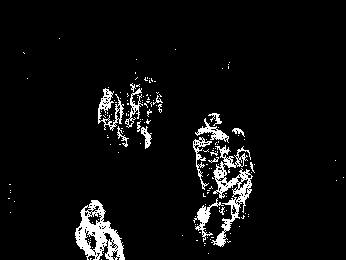person: (214, 127, 255, 250), (194, 110, 232, 237), (75, 199, 124, 260), (129, 74, 164, 151), (98, 86, 126, 156)
